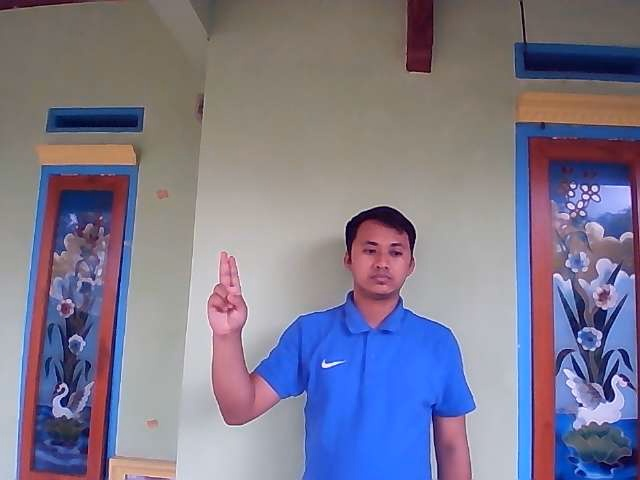U: (206, 250, 249, 333)
